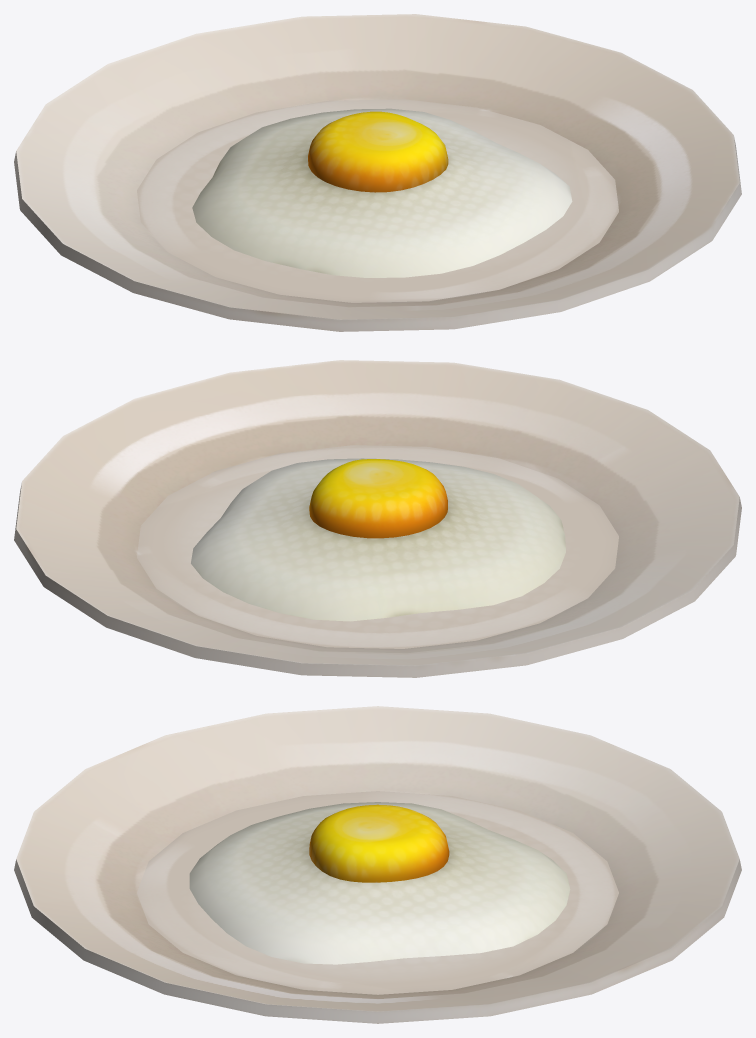
The model's file is Eggs.fbx.
3 renders of one model, top to bottom at view 1: azimuth 30°, elevation 25°; view 2: azimuth 150°, elevation 25°; view 3: azimuth 270°, elevation 25°, orthographic.
Visible parts, largest first — view 1: Plate_big, Egg; view 2: Plate_big, Egg; view 3: Plate_big, Egg.
Part boxes in pixels (x1=…): Plate_big: x1=14, y1=14, x2=741, y2=331; Egg: x1=192, y1=108, x2=572, y2=277; Plate_big: x1=14, y1=360, x2=741, y2=677; Egg: x1=191, y1=458, x2=565, y2=621; Plate_big: x1=14, y1=706, x2=741, y2=1023; Egg: x1=189, y1=802, x2=570, y2=964.
Size of the model in its own units: 63.32 by 7.55 by 63.32.
2 materials, 2 textured.
